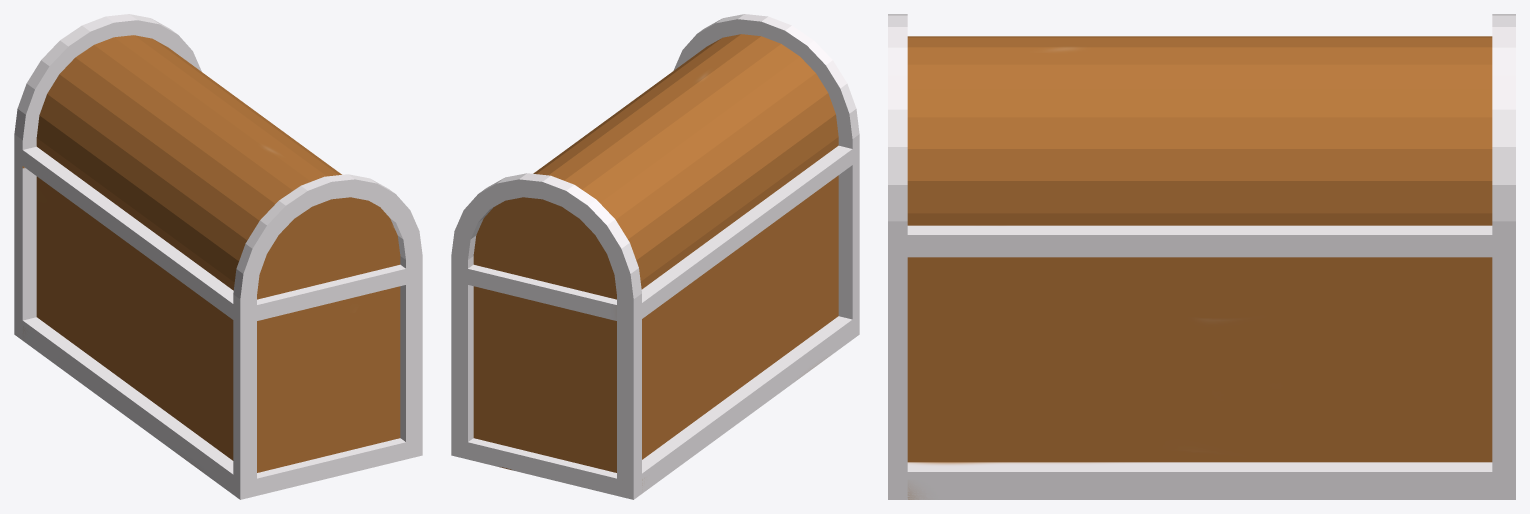
The picture shows the model from 3 angles, left to right: view 1: azimuth 30°, elevation 25°; view 2: azimuth 150°, elevation 25°; view 3: azimuth 270°, elevation 25°; orthographic projection. The views are drawn at different scales.
Visible parts, largest first — view 1: Cube; view 2: Cube; view 3: Cube.
Boxes of the visible parts, bbox=[...] form: Cube: bbox=[14, 14, 422, 499]; Cube: bbox=[451, 14, 859, 499]; Cube: bbox=[888, 14, 1515, 499].
Bounding box in the file's own units: 2 × 3.1 × 4.29.
1 material, 1 textured.
